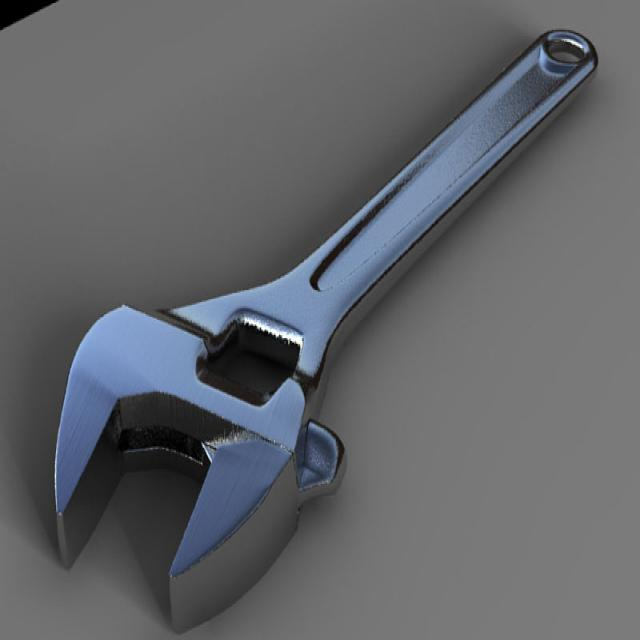wrench: (27, 0, 630, 614)
